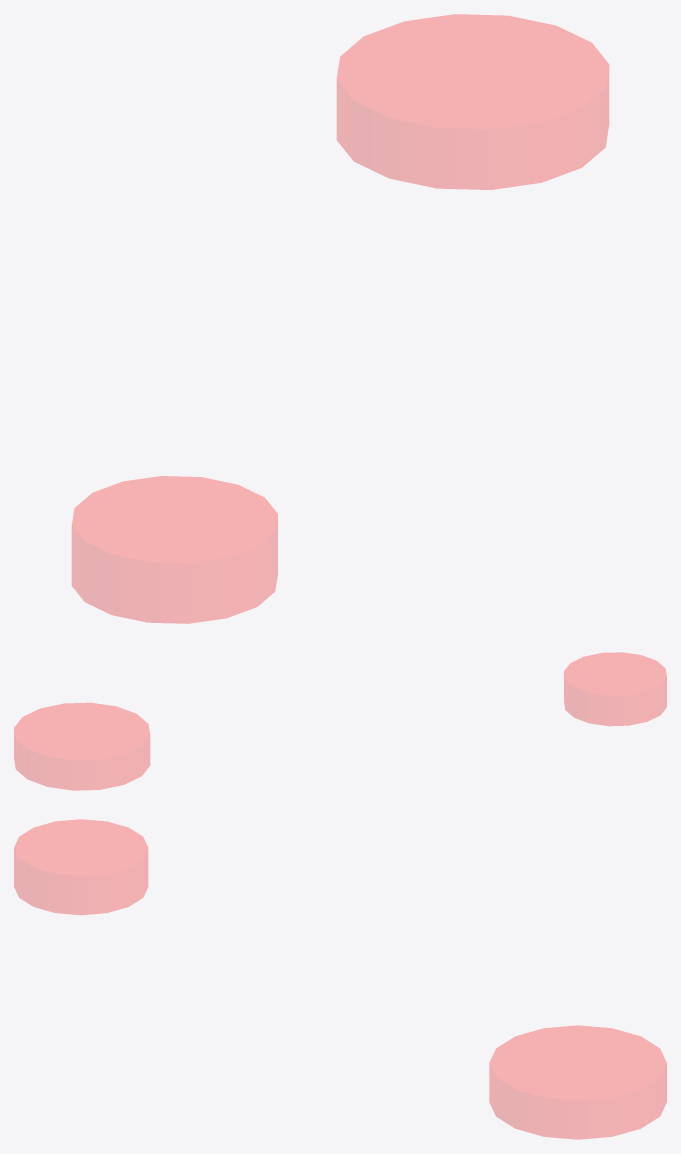
Rendered from s01a_lc1-obstacles.glb.
The picture shows the model from 3 angles, top to bottom: view 1: azimuth 30°, elevation 25°; view 2: azimuth 150°, elevation 25°; view 3: azimuth 270°, elevation 25°; orthographic projection. The views are drawn at different scales.
Visible parts, largest first — view 1: boulder-colonly (×2); view 2: boulder-colonly (×2); view 3: boulder-colonly (×2).
Part boxes in pixels (x1=…): boulder-colonly (×2): x1=72, y1=14, x2=608, y2=623; boulder-colonly (×2): x1=14, y1=652, x2=666, y2=790; boulder-colonly (×2): x1=14, y1=819, x2=666, y2=1139.
Size of the model in its own units: 30.69 by 2 by 30.12.
